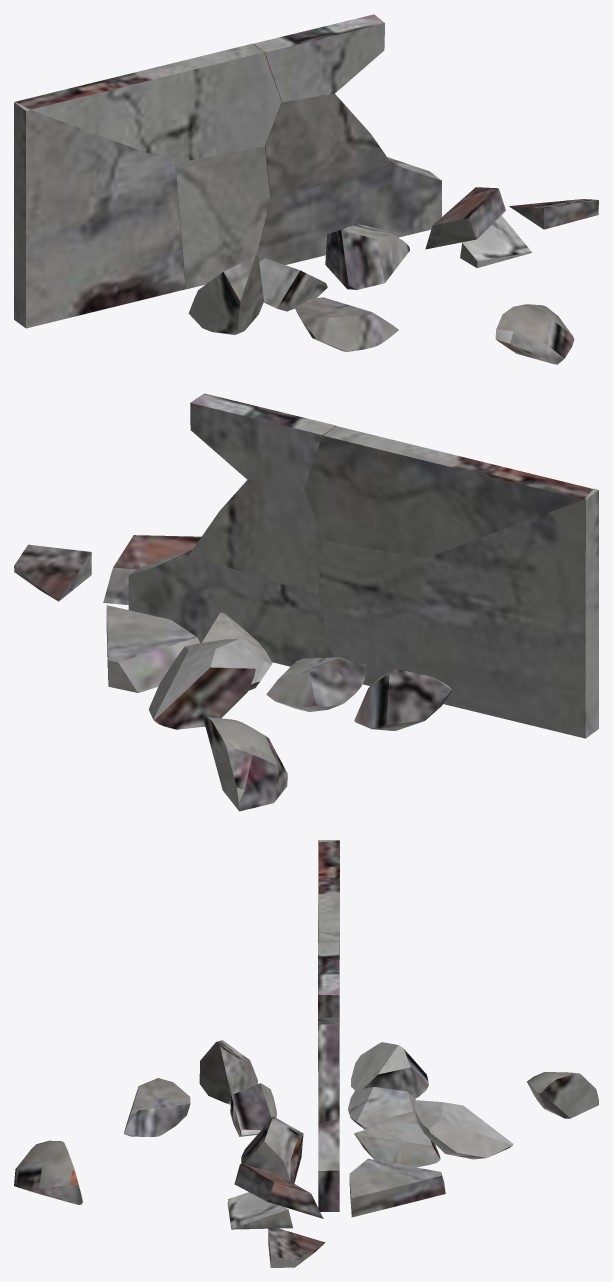
File: City_Object1.FBX
The picture shows the model from 3 angles, top to bottom: view 1: azimuth 30°, elevation 25°; view 2: azimuth 150°, elevation 25°; view 3: azimuth 270°, elevation 25°; orthographic projection. The views are drawn at different scales.
Parts seen in each view (by area): view 1: Box001_Part_4; view 2: Box001_Part_4; view 3: Box001_Part_4.
Part boxes in pixels (left/top/right/bottom): Box001_Part_4: left=14, top=14, right=598, bottom=364; Box001_Part_4: left=14, top=393, right=598, bottom=811; Box001_Part_4: left=14, top=840, right=598, bottom=1267.
Bounding box in the file's own units: 263 × 100 × 276.
Materials: 1 (1 with a texture image).
